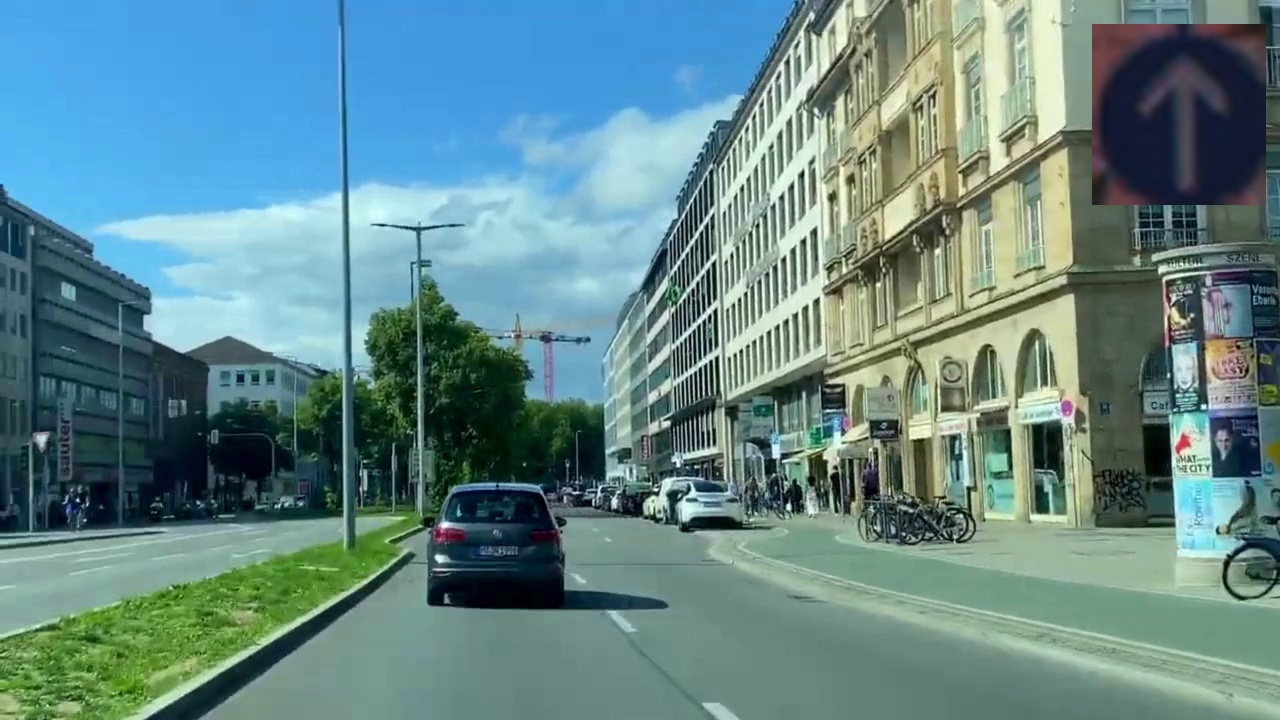Ahead only: (1092, 24, 1266, 205)
